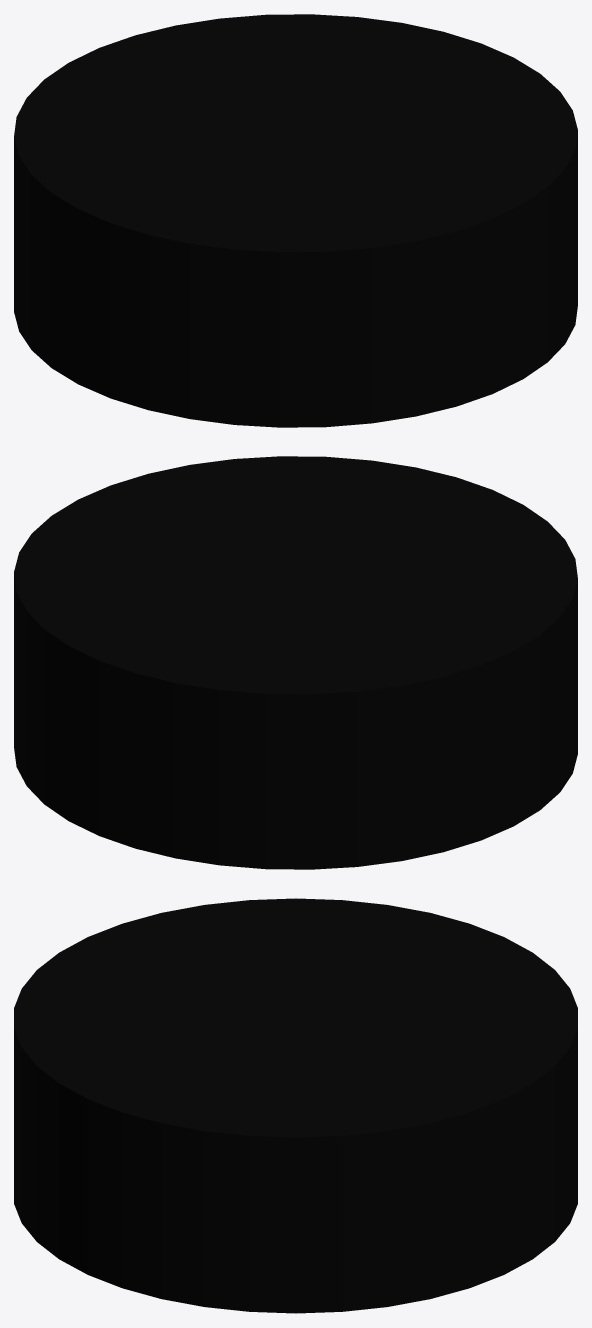
File: wheel_motor_link3.obj
3 views of the same model, one above another, from view 1: azimuth 30°, elevation 25°; view 2: azimuth 150°, elevation 25°; view 3: azimuth 270°, elevation 25° (orthographic).
Visible parts, largest first — view 1: wheel_motor_link3; view 2: wheel_motor_link3; view 3: wheel_motor_link3.
Boxes of the visible parts, x1,y1,x2,y2 form: wheel_motor_link3: [14, 14, 577, 427]; wheel_motor_link3: [14, 456, 577, 869]; wheel_motor_link3: [14, 898, 577, 1313].
Bounding box in the file's own units: 0.14 × 0.048 × 0.1395.
